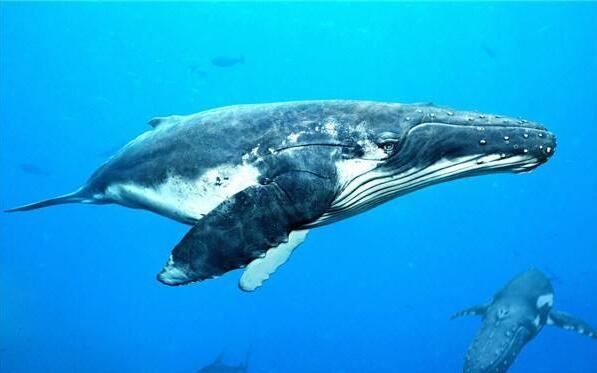bird: (5, 84, 562, 295)
